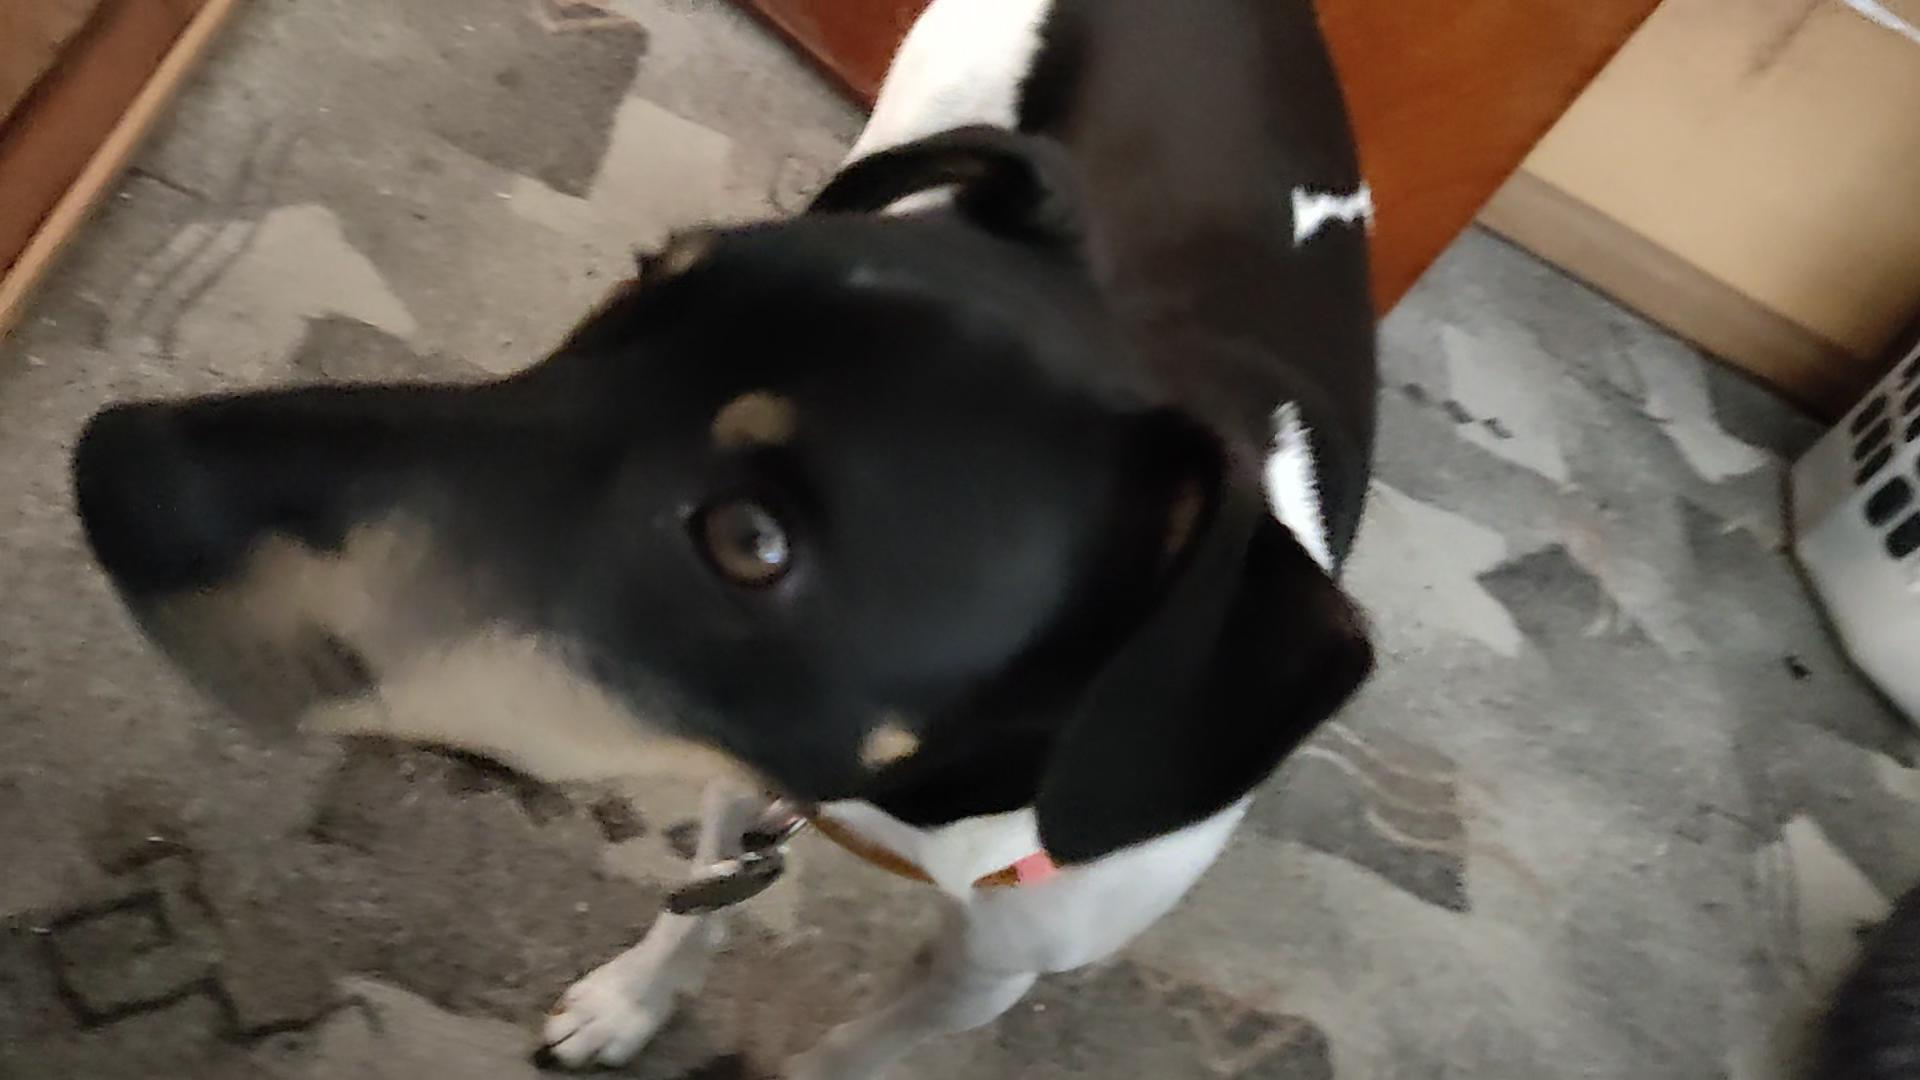Dog: (54, 0, 1407, 1079)
